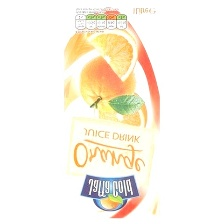carton: (58, 2, 170, 221)
